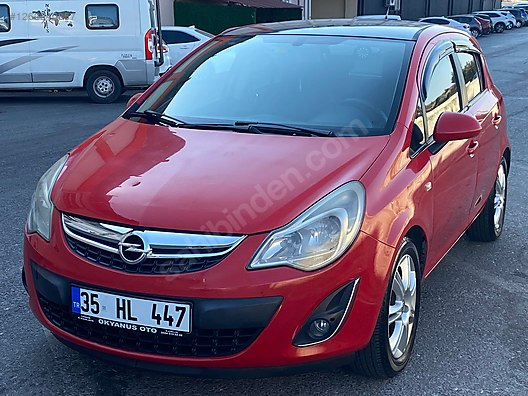plate: (62, 297, 194, 327)
